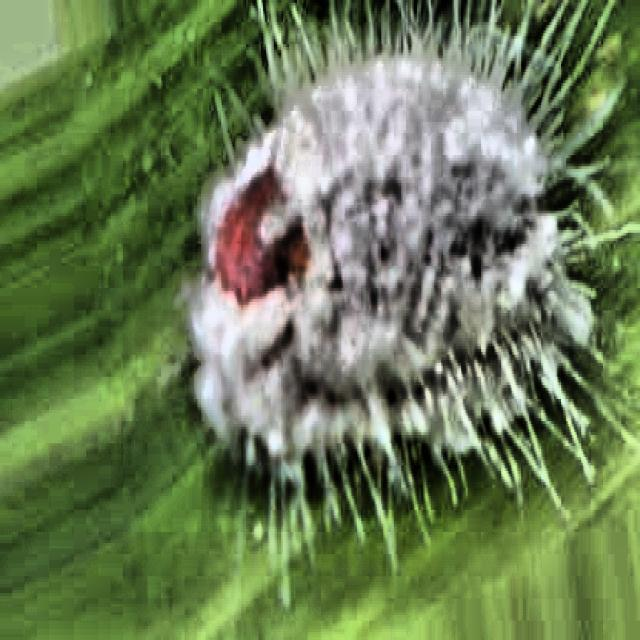Mealy-bug: (160, 4, 626, 563)
